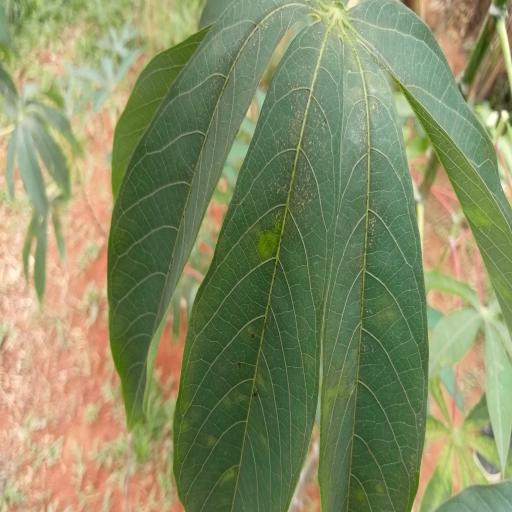Cassava_Bacterial_Disease: (108, 0, 508, 512)
